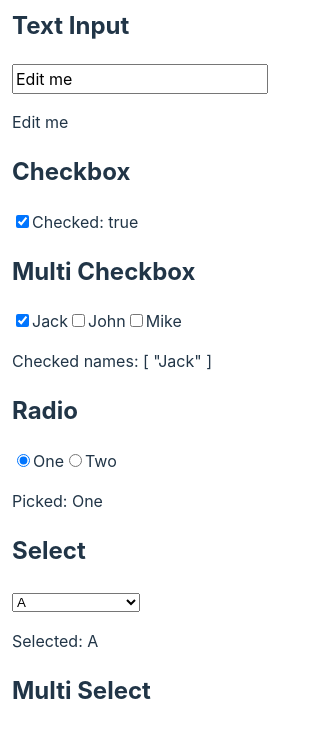
Test: FormBindings › ラジオボタンが v-model で選択値にバインディングされる
Expected: the radio button with id "one" is checked, x1=17 y1=454 x2=30 y2=467
Expected: the text "Picked: One" is shown, x1=12 y1=491 x2=103 y2=511
Click the radio button with id "two" at (76, 461), box x1=69 y1=454 x2=82 y2=467
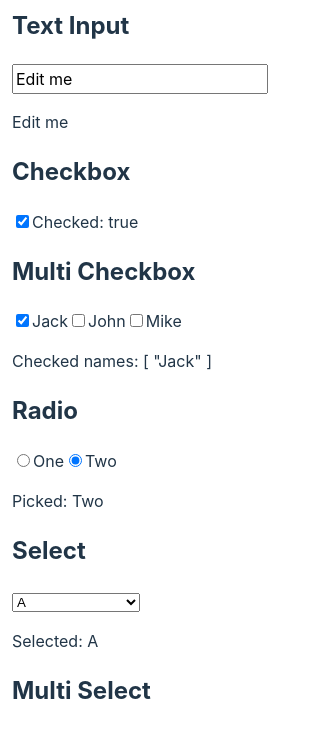
Expected: the text "Picked: Two" is shown, x1=12 y1=491 x2=104 y2=511
